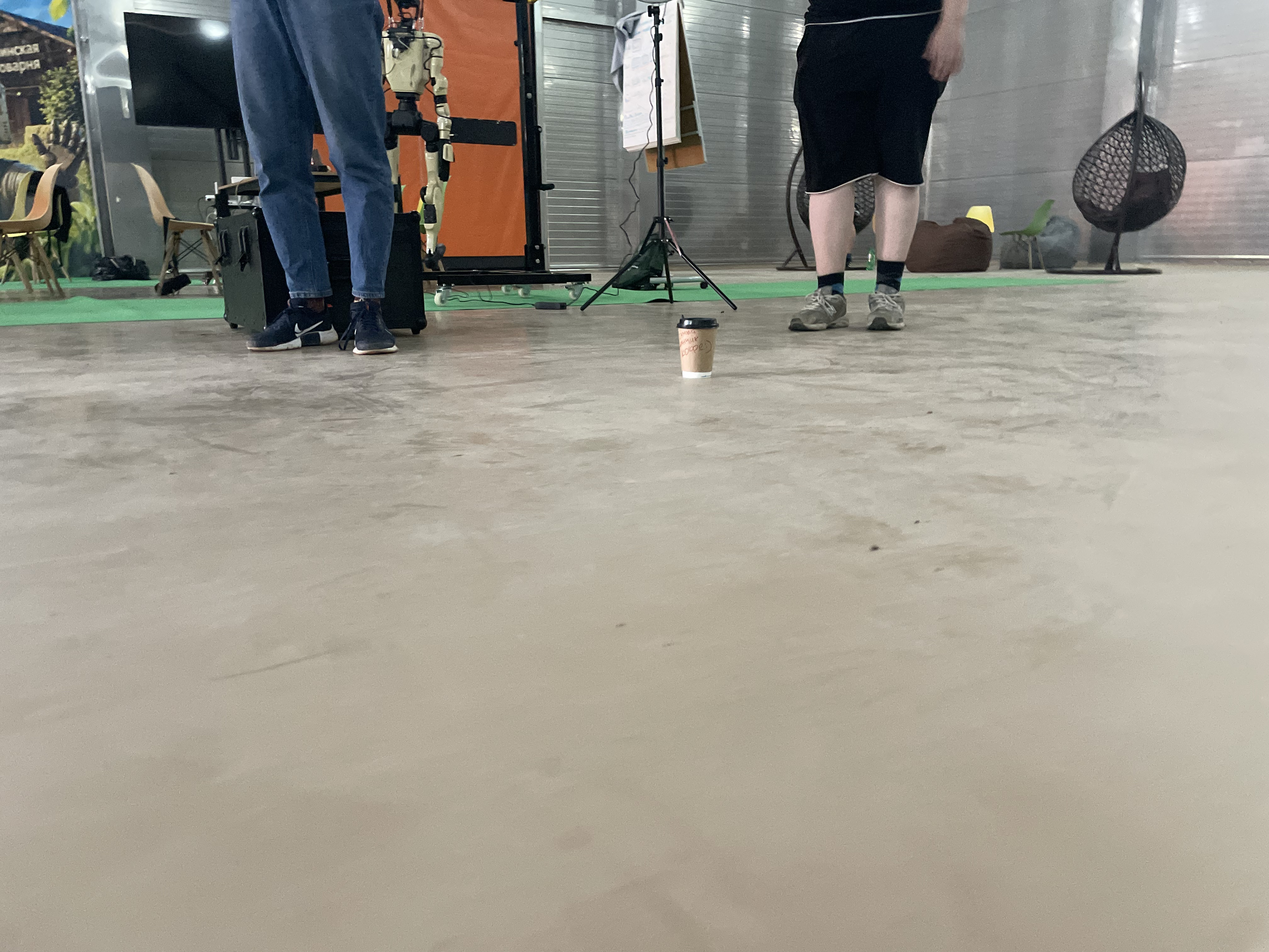cup: (676, 315, 720, 379)
